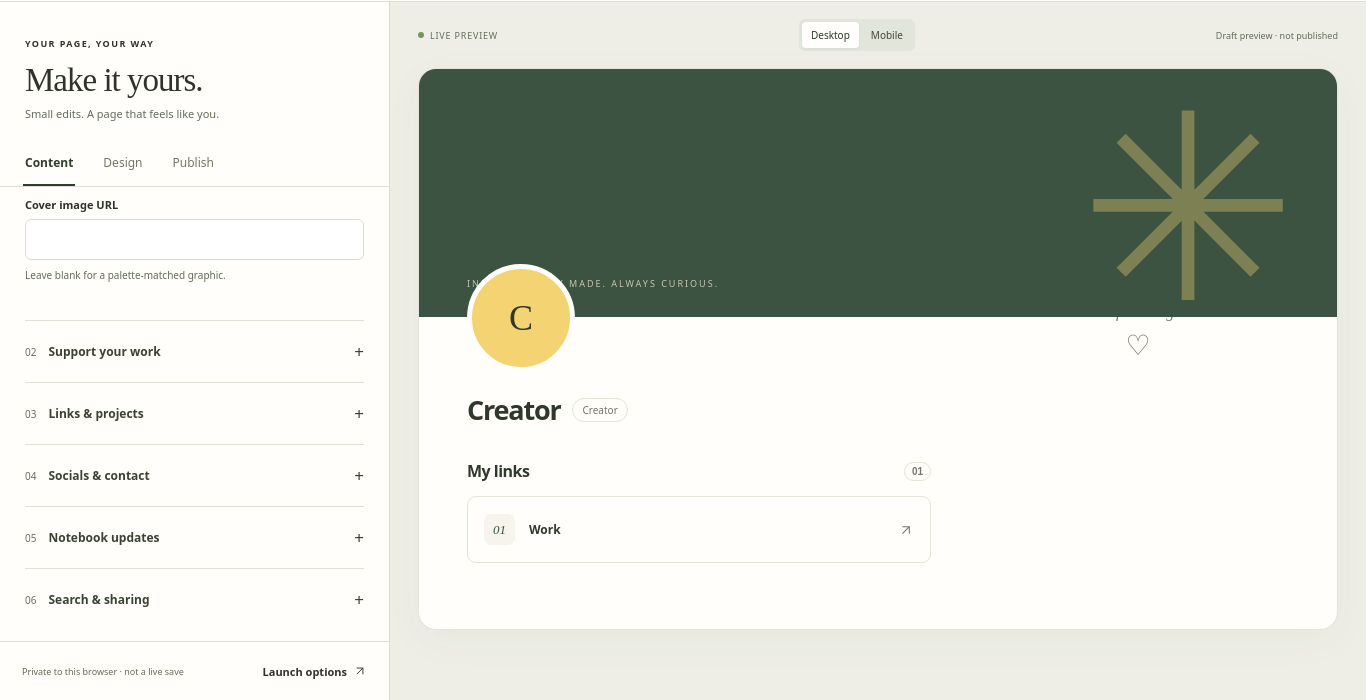
optional project images persist in local drafts and reject unsafe URLs
(page scrolled)
Expected: the heading "Creator" is shown, [467,391,560,428]
Click the text "Links & projects" at (96,414), box [48,405,144,422]
(page scrolled)
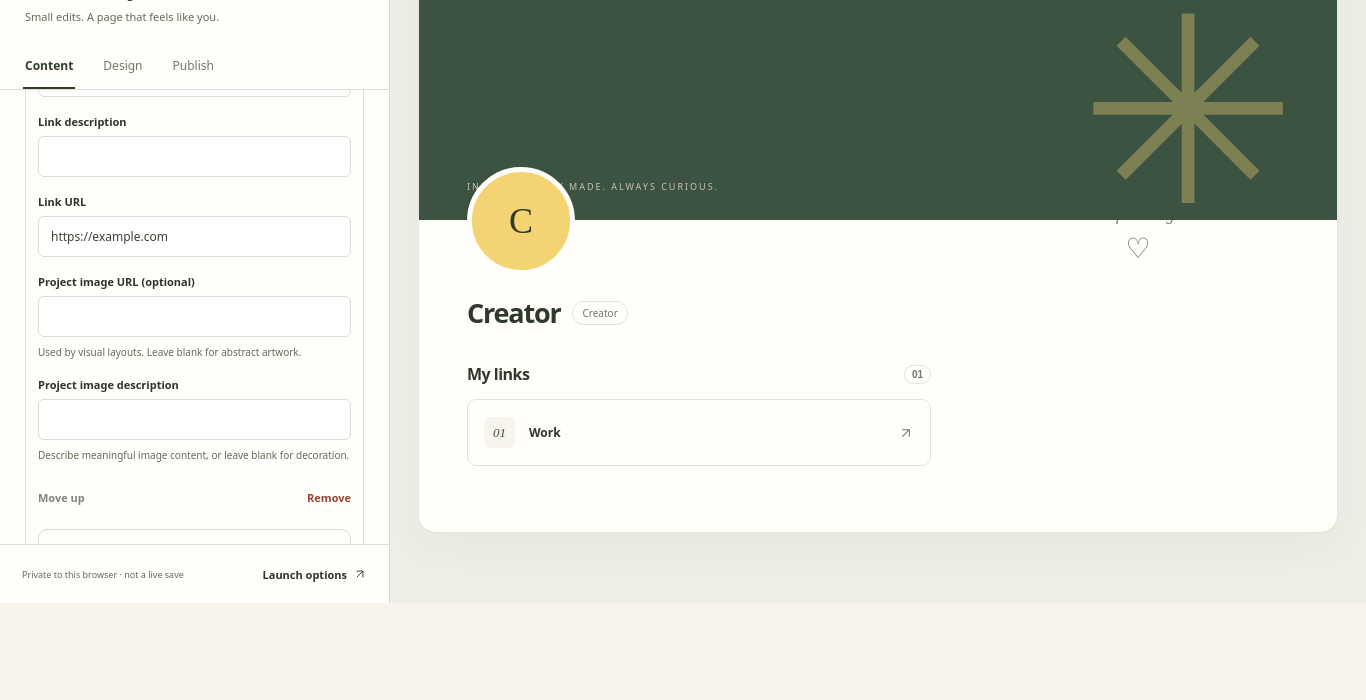
Type "images/work.png" into the field labelled "Project image URL" at (194,317), box [38,296,351,337]
Type "The finished project" into the field labelled "Project image description" at (194,420), box [38,399,351,440]
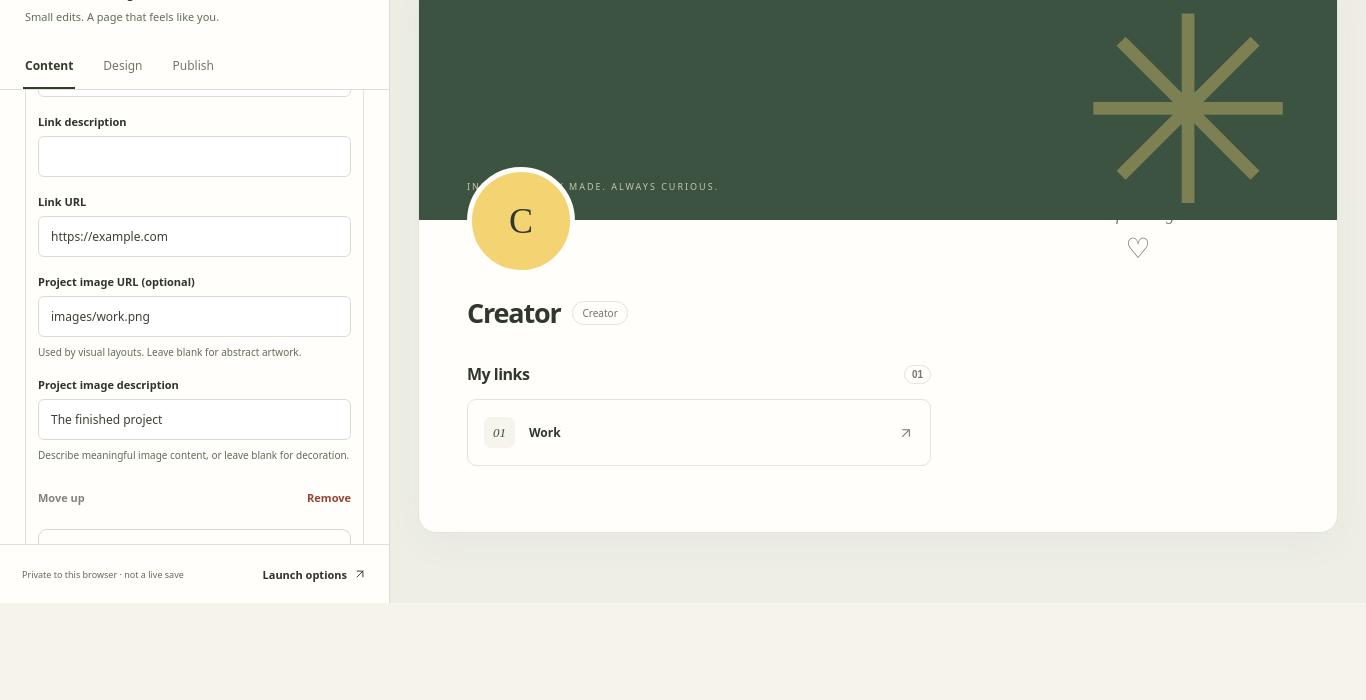
Replace the text in the field labelled "Project image URL" with "javascript:alert(1)" at (194,317), box [38,296,351,337]
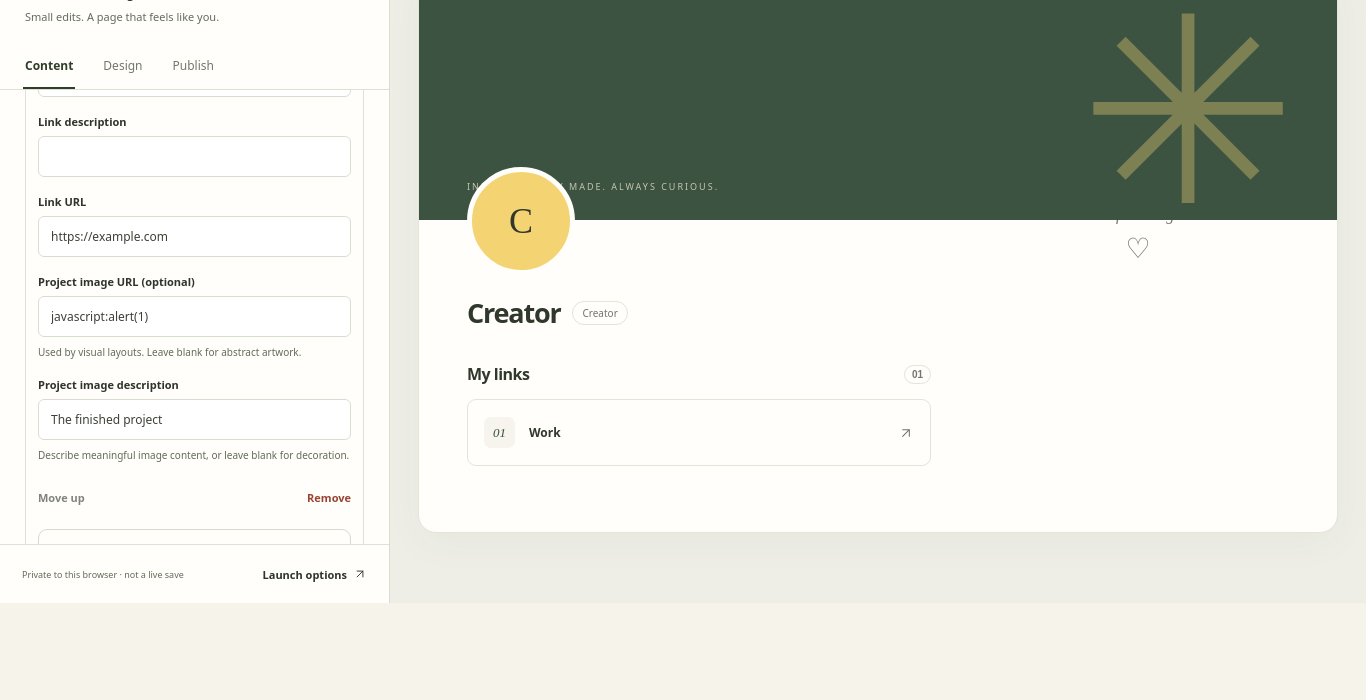
Click the button "Publish" at (193,66), box [170,44,216,89]
(page scrolled)
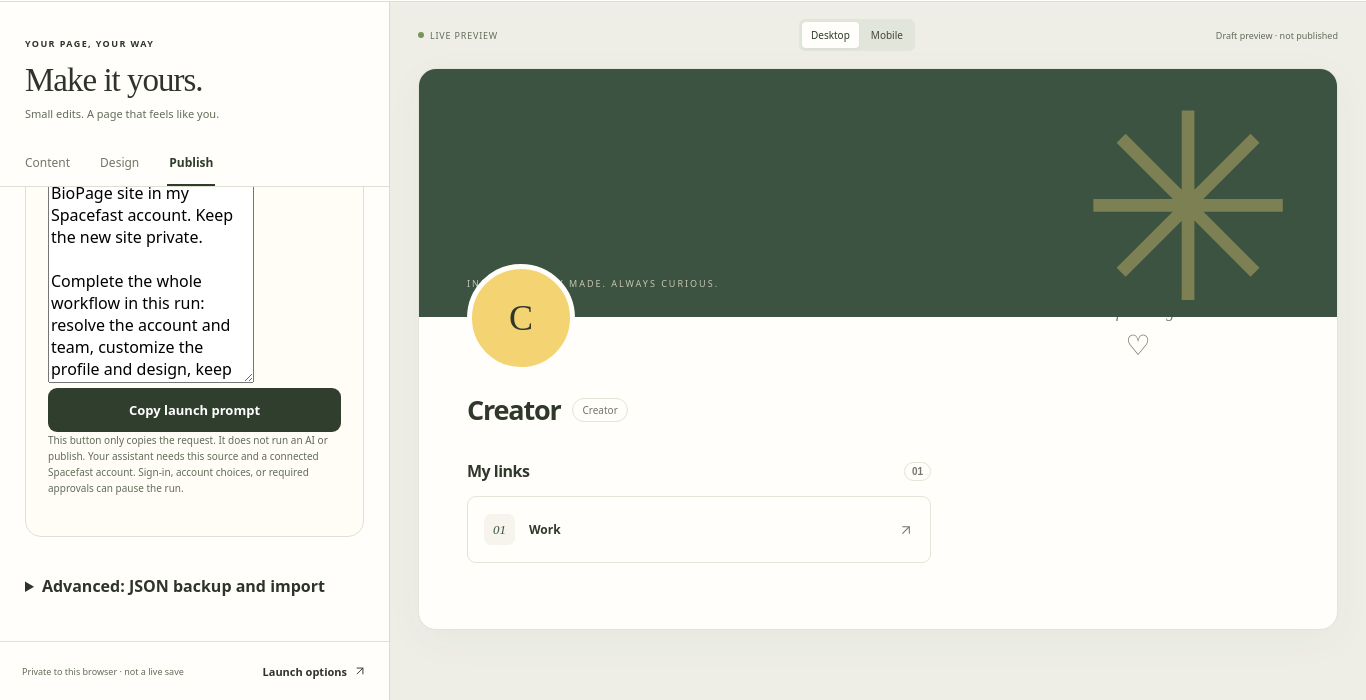
Click the heading "Advanced: JSON backup and import" at (183,586), box [42,575,325,597]
(page scrolled)
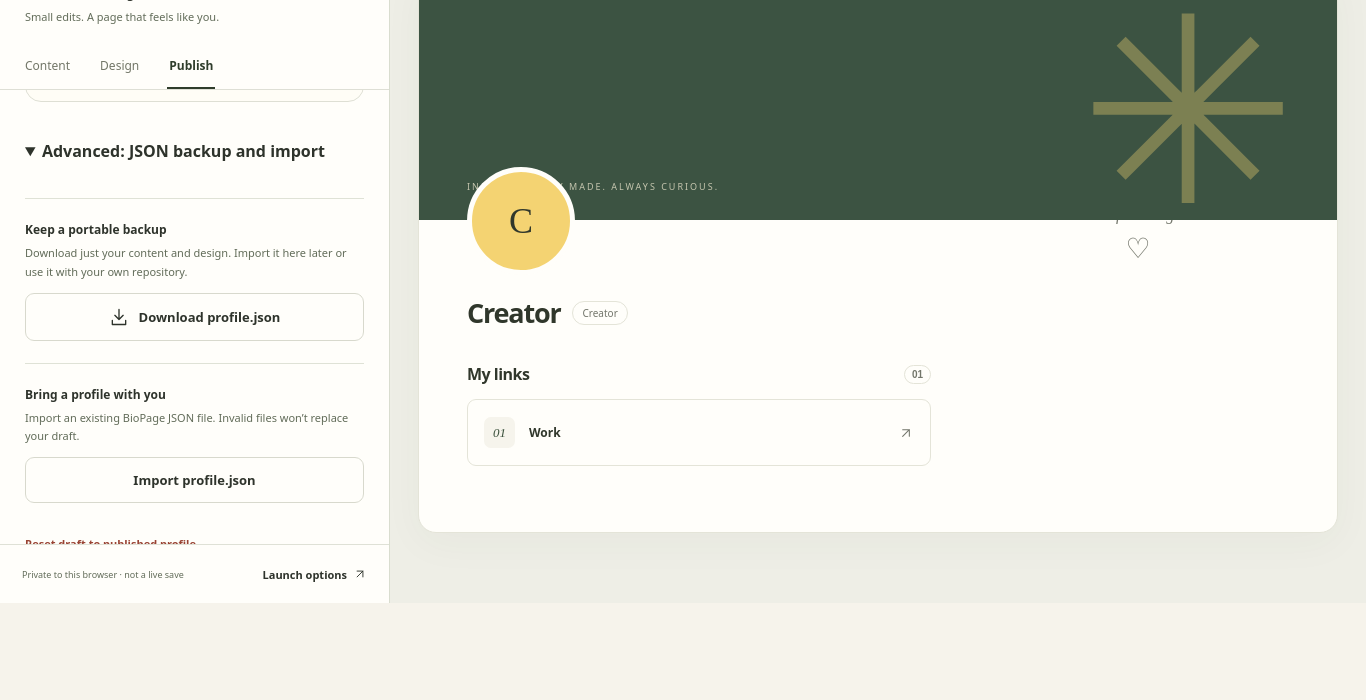
Click the button "Download profile.json" at (194,317), box [25,293,364,341]
(page scrolled)
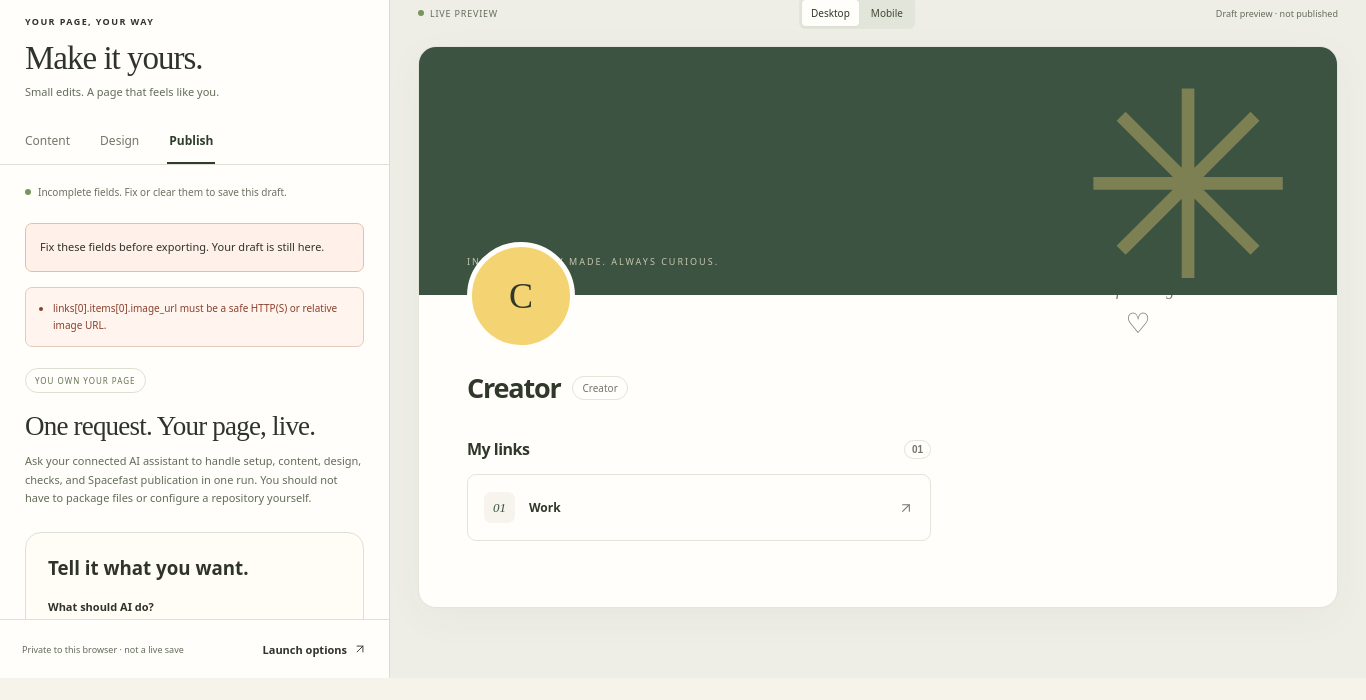
Now the message "links[0].items[0].image_url must be a safe HTTP(S) or relative image URL." is shown, box [25,287,364,347]
